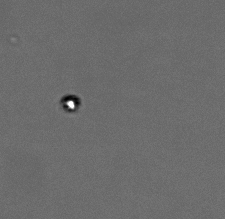Living Cell: (63, 94, 79, 111)
